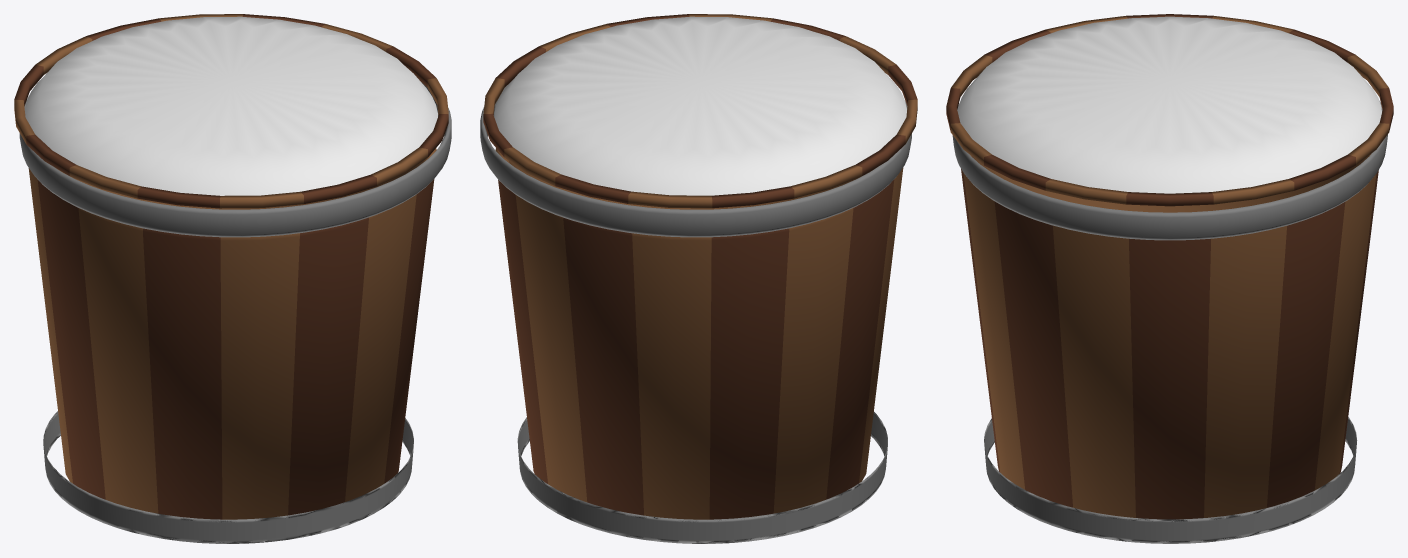
File: Bongo_Pequeño.fbx
3 views of the same model, side by side, from view 1: azimuth 30°, elevation 25°; view 2: azimuth 150°, elevation 25°; view 3: azimuth 270°, elevation 25° (orthographic).
Visible parts, largest first — view 1: Superior 2, Bongo 2, Circulo 4, Circulo 3; view 2: Superior 2, Bongo 2, Circulo 4, Circulo 3; view 3: Superior 2, Bongo 2, Circulo 4, Circulo 3.
Boxes of the visible parts, <box> form: Superior 2: <box>14,14,448,519</box>; Bongo 2: <box>25,16,437,195</box>; Circulo 4: <box>19,82,451,237</box>; Circulo 3: <box>43,411,413,543</box>; Superior 2: <box>483,14,917,519</box>; Bongo 2: <box>494,16,906,195</box>; Circulo 4: <box>480,81,911,237</box>; Circulo 3: <box>517,412,887,543</box>; Superior 2: <box>946,14,1393,519</box>; Bongo 2: <box>958,16,1381,193</box>; Circulo 4: <box>952,101,1387,240</box>; Circulo 3: <box>984,417,1357,543</box>.
Bounding box in the file's own units: 185 × 179 × 188.
